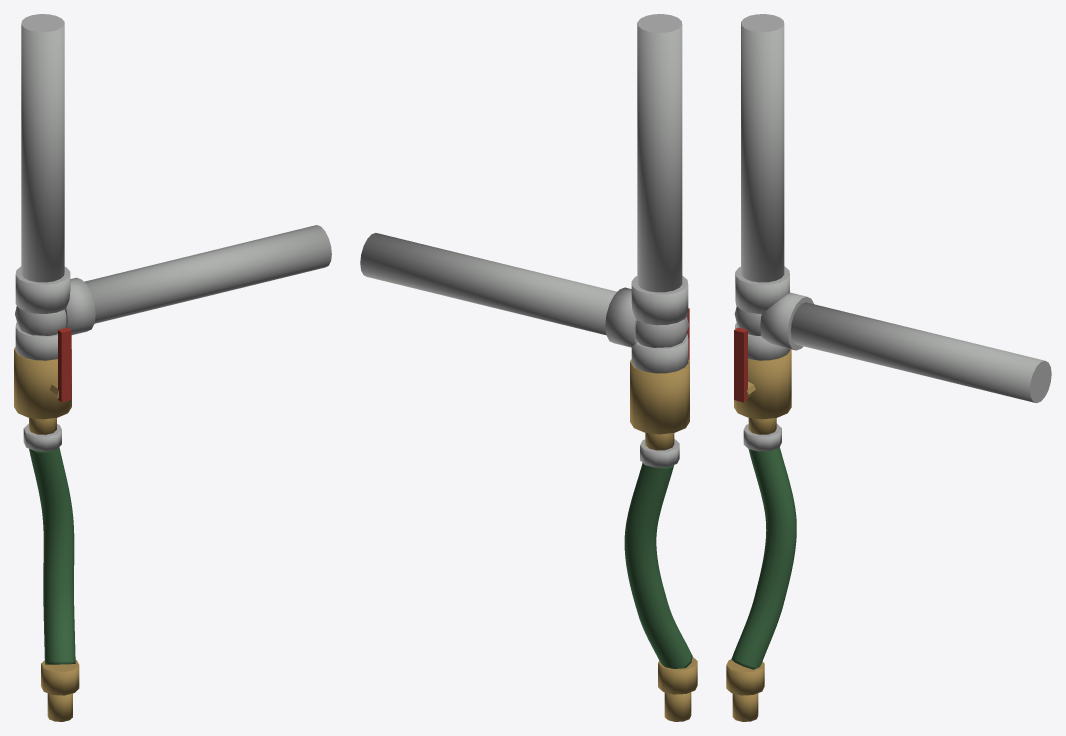
Rendered from barrel_pump_front1.obj.
3 views of the same model, side by side, from view 1: azimuth 30°, elevation 25°; view 2: azimuth 150°, elevation 25°; view 3: azimuth 330°, elevation 25° (orthographic). The views are drawn at different scales.
Visible parts, largest first — view 1: pipe4, pipe2, hose, valve_body, elbow_socket4, elbow_socket2, spigot_nut, elbow_socket1, elbow_hub, valve_lever, hose_collar, spigot; view 2: pipe4, pipe2, hose, valve_body, elbow_socket4, elbow_socket1, elbow_socket2, elbow_hub, spigot_nut, hose_collar, spigot; view 3: pipe4, pipe2, hose, valve_body, elbow_socket4, elbow_socket2, spigot_nut, valve_lever, elbow_socket1, hose_collar, spigot, elbow_hub.
Part boxes in pixels (x1,y1,x2,y2): pipe4: [21, 14, 64, 282]; pipe2: [84, 225, 331, 323]; hose: [29, 447, 75, 664]; valve_body: [14, 347, 71, 419]; elbow_socket4: [15, 266, 70, 313]; elbow_socket2: [65, 277, 95, 335]; spigot_nut: [41, 660, 79, 695]; elbow_socket1: [15, 322, 57, 360]; elbow_hub: [15, 306, 66, 335]; valve_lever: [58, 327, 71, 402]; hose_collar: [23, 423, 61, 451]; spigot: [47, 693, 72, 721]; pipe4: [637, 14, 682, 292]; pipe2: [360, 233, 616, 334]; hose: [624, 463, 692, 668]; valve_body: [630, 359, 689, 434]; elbow_socket4: [631, 275, 688, 325]; elbow_socket1: [631, 334, 688, 373]; elbow_socket2: [605, 287, 637, 347]; elbow_hub: [635, 317, 688, 347]; spigot_nut: [658, 657, 697, 694]; hose_collar: [640, 439, 679, 467]; spigot: [664, 692, 691, 721]; pipe4: [741, 14, 784, 282]; pipe2: [790, 302, 1051, 403]; hose: [731, 447, 796, 669]; valve_body: [734, 349, 791, 419]; elbow_socket4: [735, 266, 789, 313]; elbow_socket2: [760, 292, 813, 350]; spigot_nut: [726, 659, 764, 695]; valve_lever: [734, 327, 747, 402]; elbow_socket1: [735, 323, 789, 360]; hose_collar: [743, 424, 781, 451]; spigot: [732, 693, 758, 721]; elbow_hub: [734, 306, 761, 335].
Size of the model in its own units: 0.545 by 1.17 by 0.1275.
Materials: 4 (4 with a texture image).
